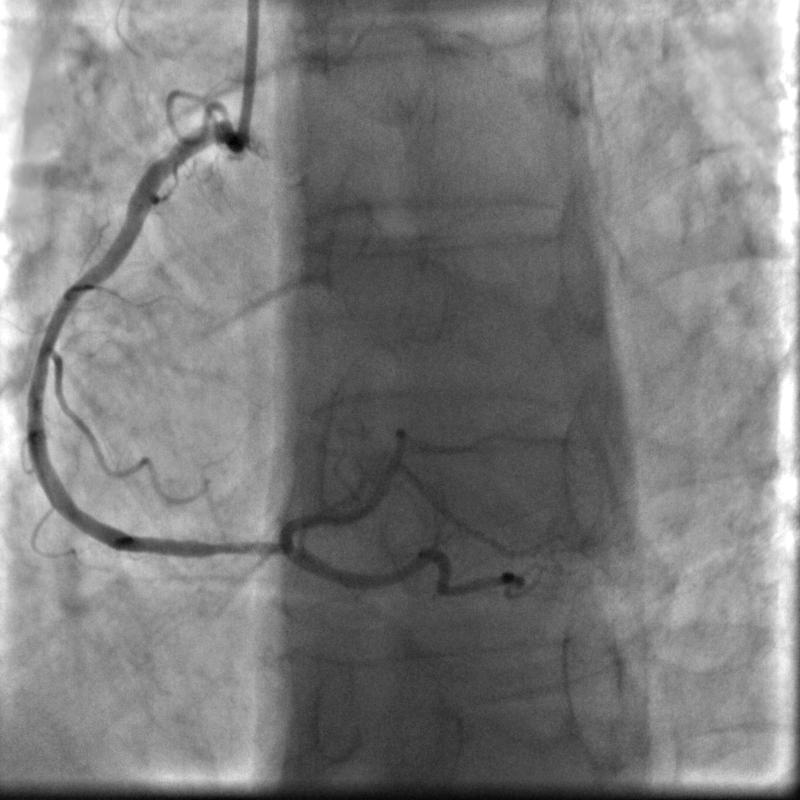Stenosis: (175, 527, 291, 574)
